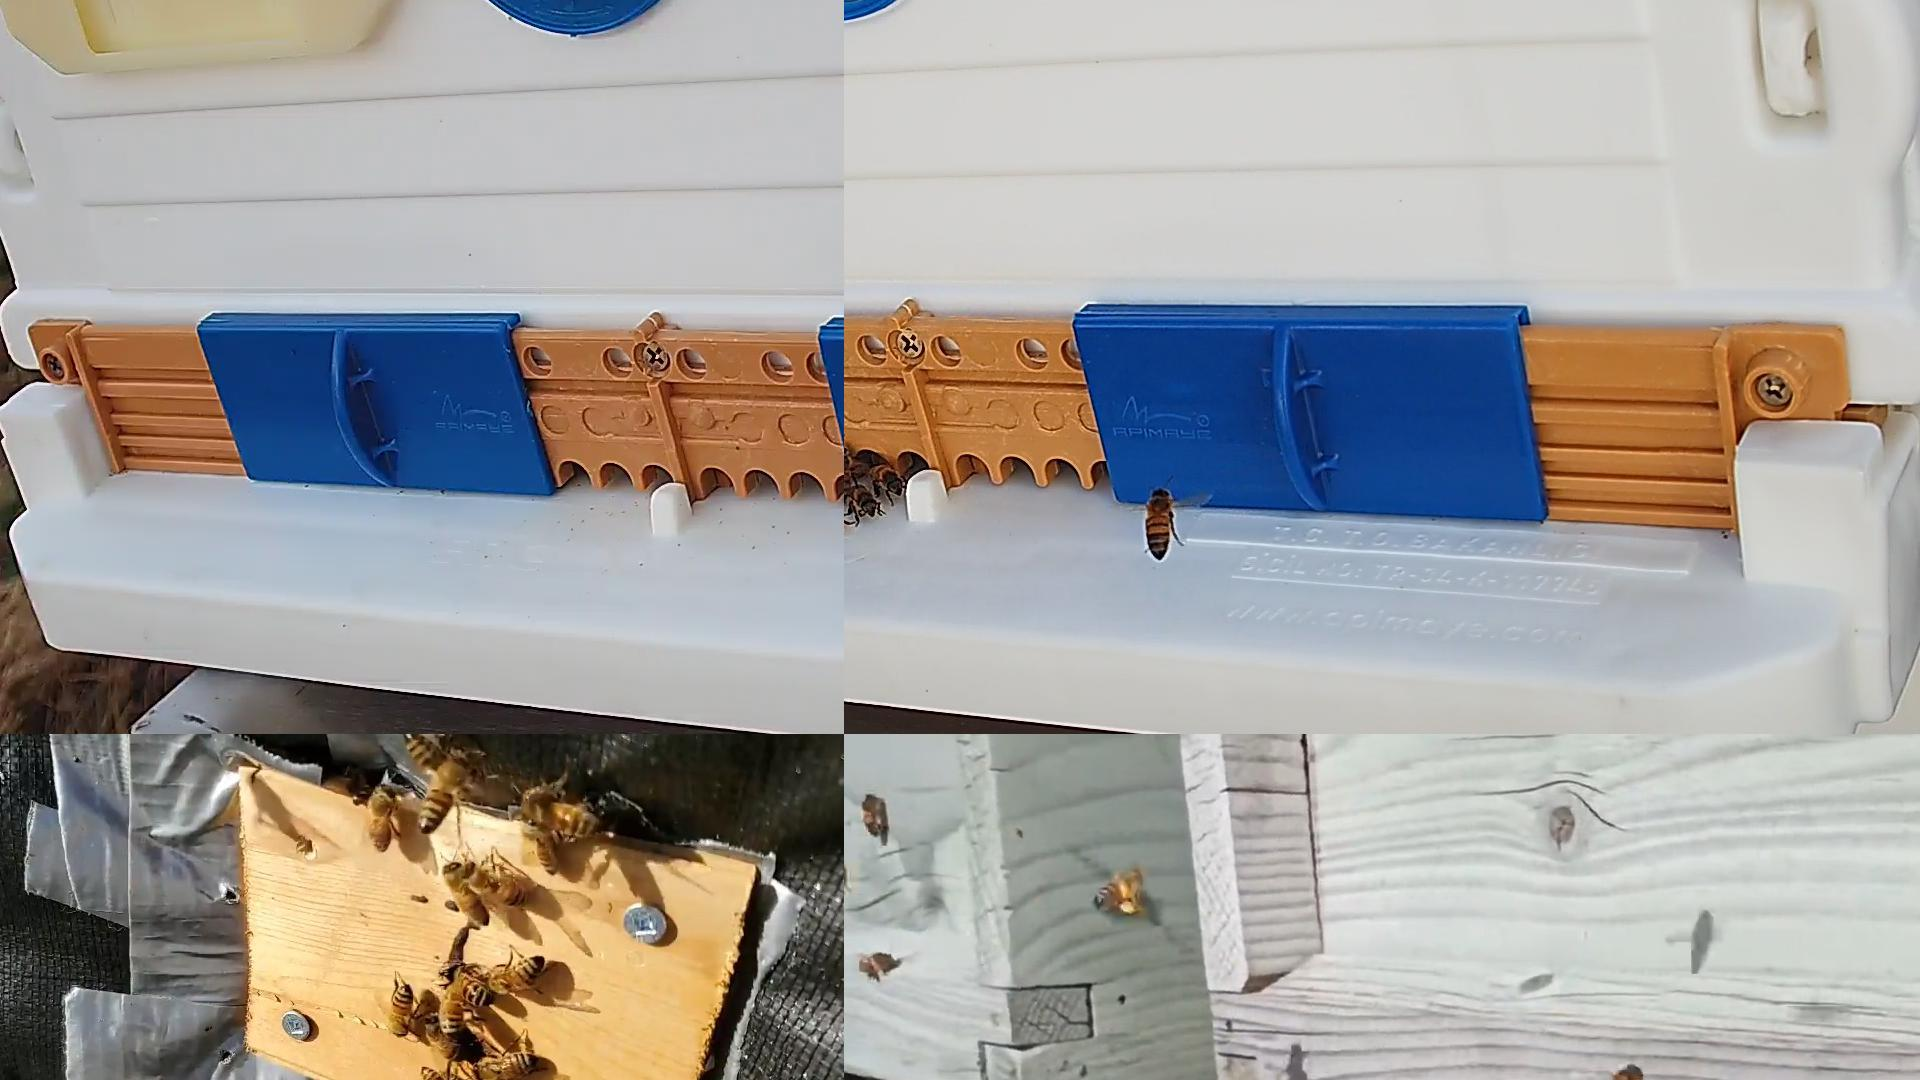bee: (416, 757, 471, 830), (520, 789, 598, 836), (443, 862, 487, 929), (469, 865, 533, 908), (405, 734, 467, 777), (519, 816, 559, 873), (1143, 489, 1173, 560), (447, 961, 494, 1004), (368, 782, 398, 849), (487, 956, 543, 990), (426, 1017, 466, 1059), (474, 1056, 538, 1079), (387, 985, 413, 1040), (869, 465, 904, 497), (861, 792, 887, 833), (441, 983, 461, 1036), (859, 950, 897, 976), (851, 485, 878, 517), (1594, 1063, 1646, 1079), (419, 1065, 475, 1079), (844, 447, 852, 506), (844, 860, 850, 918)
pollenbee: (1094, 870, 1148, 917)
